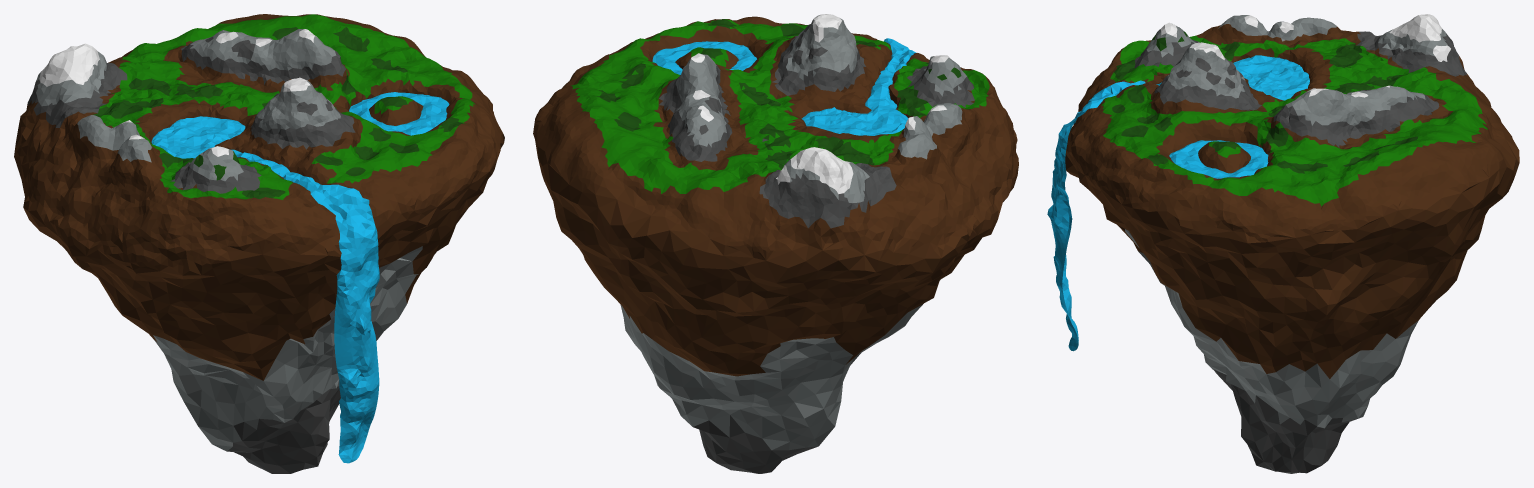
The model's file is HauptweltNormalTest.fbx.
The picture shows the model from 3 angles, left to right: view 1: azimuth 30°, elevation 25°; view 2: azimuth 150°, elevation 25°; view 3: azimuth 270°, elevation 25°; orthographic projection. The views are drawn at different scales.
Parts seen in each view (by area): view 1: WeltSmart.001, WasserSmart.001; view 2: WeltSmart.001, WasserSmart.001; view 3: WeltSmart.001, WasserSmart.001.
Boxes of the visible parts, x1,y1,x2,y2 form: WeltSmart.001: (14,14,504,473); WasserSmart.001: (151,92,449,463); WeltSmart.001: (533,14,1018,473); WasserSmart.001: (652,38,916,135); WeltSmart.001: (1065,14,1519,473); WasserSmart.001: (1047,55,1309,351).
Bounding box in the file's own units: 71748 × 70170 × 72929.
